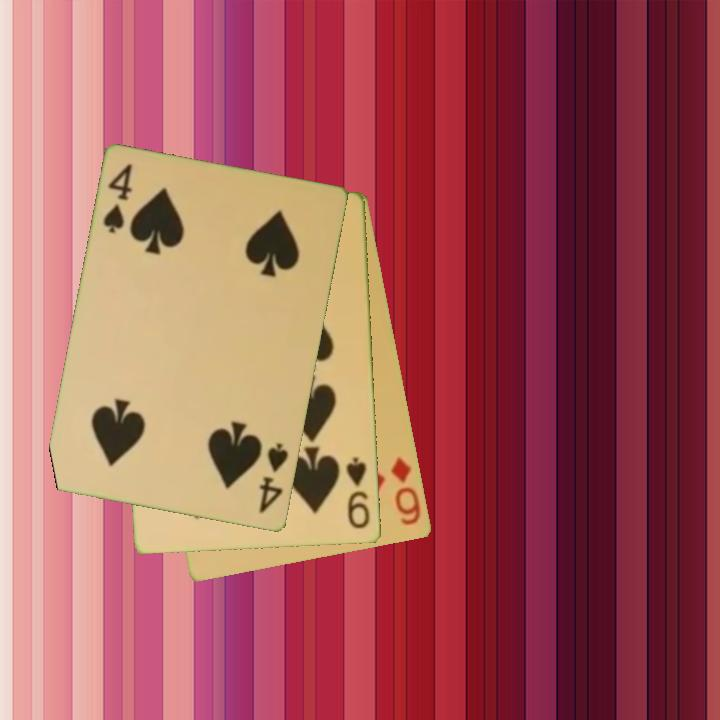4s: (256, 440, 292, 517), (100, 161, 136, 237)
6d: (388, 453, 424, 529)
9s: (343, 454, 373, 532)
